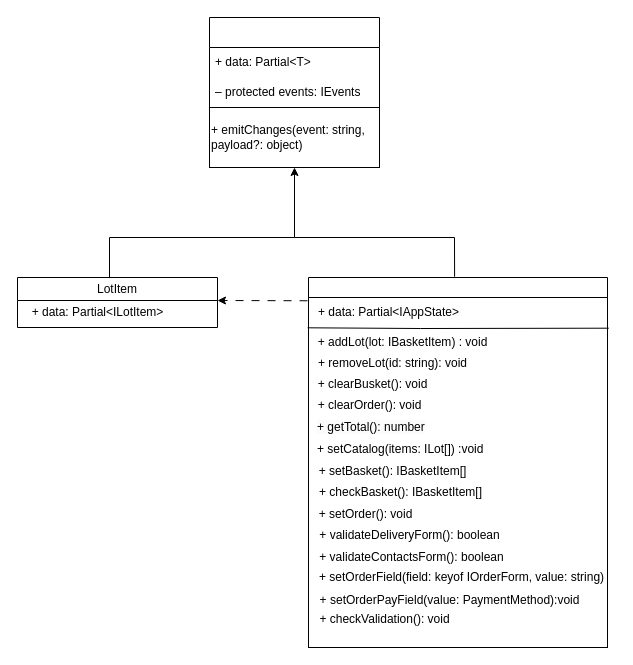
The diagram is 633 pixels wide and 665 high, and some of its shapes have lost their labels. Each missing label, with the box of its shape:
AppState: (308, 276, 608, 298)
Model<T>: (208, 16, 380, 108)
